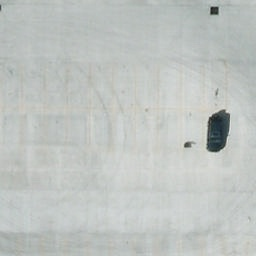car: (207, 114, 225, 154)
